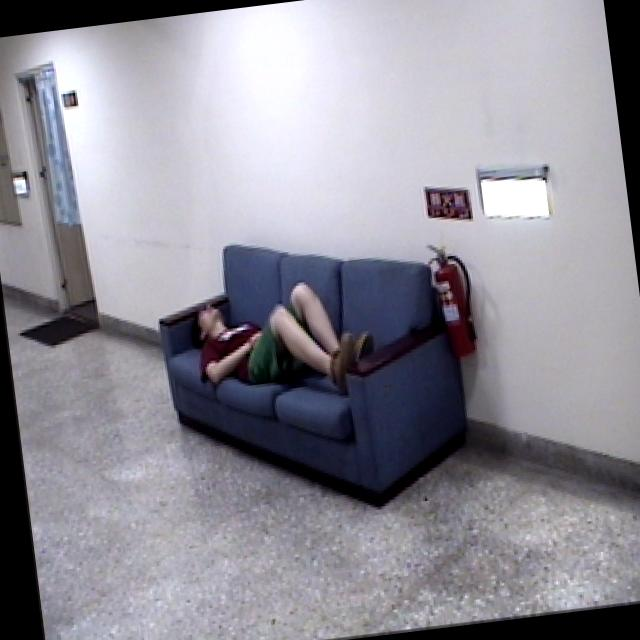lie: (186, 262, 394, 413)
